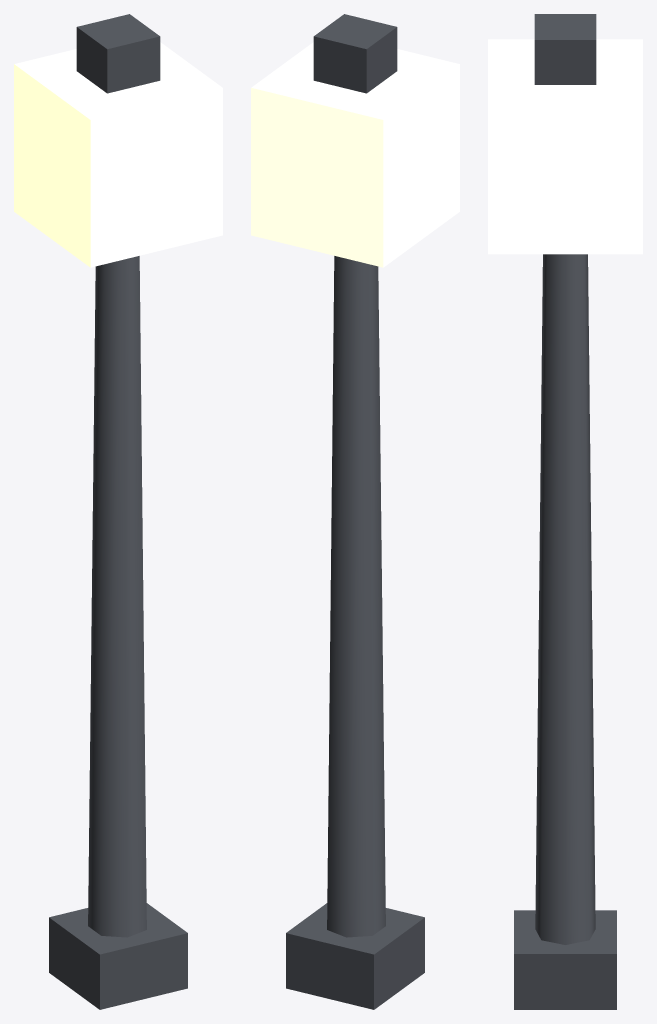
File: lamp.glb
3 renders of one model, left to right at view 1: azimuth 30°, elevation 25°; view 2: azimuth 150°, elevation 25°; view 3: azimuth 270°, elevation 25°, orthographic.
Visible parts, largest first — view 1: lamp; view 2: lamp; view 3: lamp.
Boxes of the visible parts, x1,y1,x2,y2 form: lamp: (14,14,222,1009); lamp: (251,14,459,1009); lamp: (488,14,642,1009).
Bounding box in the file's own units: 7.5 × 51.4 × 7.5.
